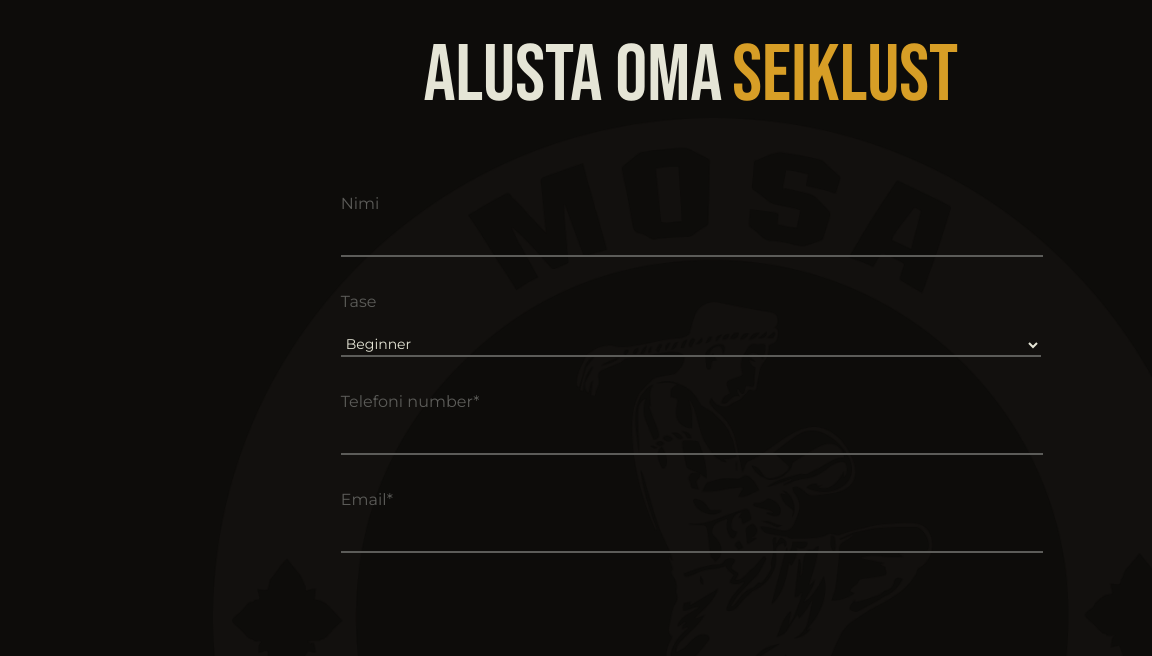
Test: TrainReg Component › should reset form and show success message on valid submission
Type "John Doe" into the field labelled "Nimi" at (692, 246), box left=341, top=235, right=1043, bottom=257
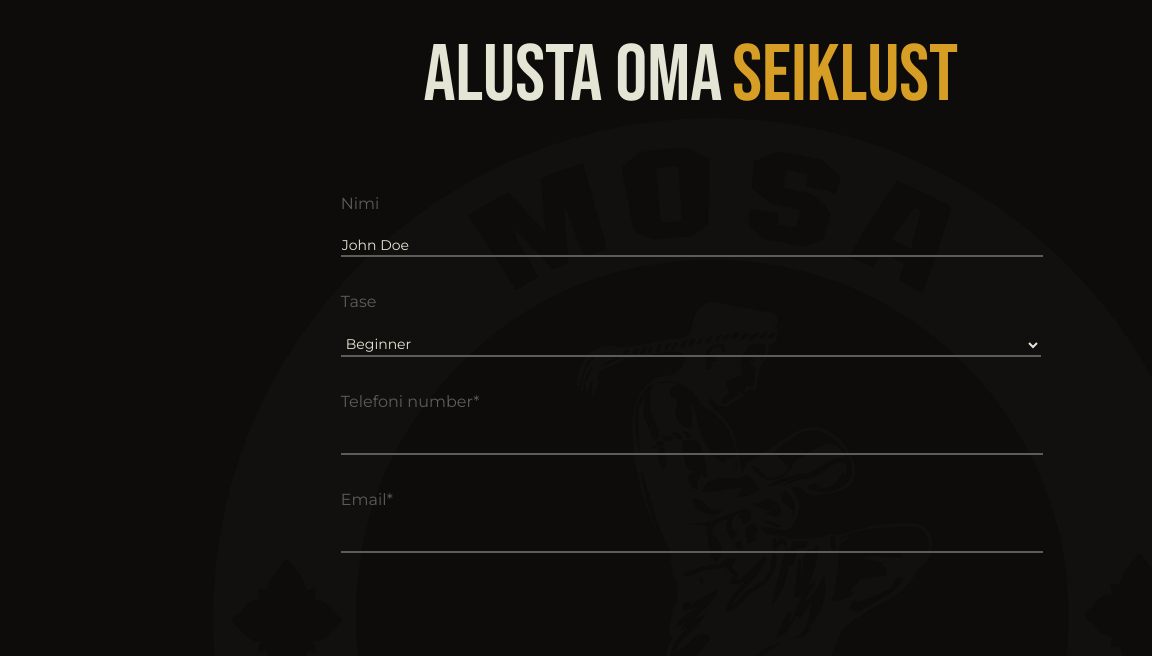
Type "john@example.com" into the field labelled "Email*" at (692, 542), box left=341, top=531, right=1043, bottom=553
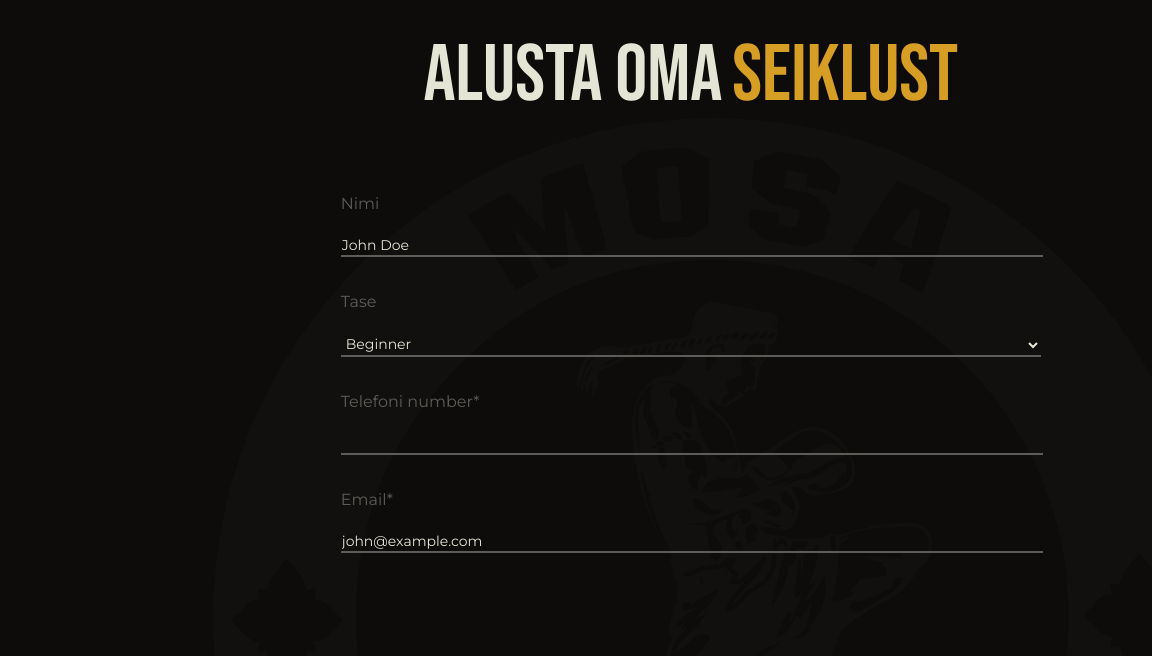
Type "+123456789" into the field labelled "Telefoni number*" at (692, 444), box left=341, top=433, right=1043, bottom=455
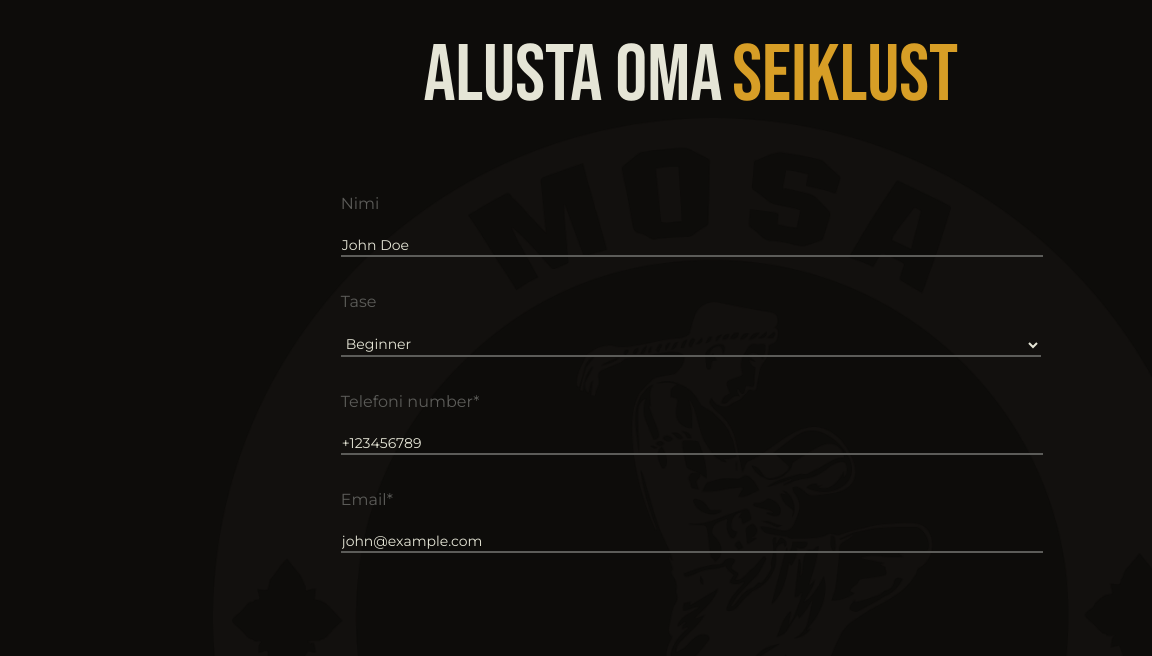
Select "Beginner" in the dropdown labelled "Tase" at (691, 345), box left=341, top=333, right=1041, bottom=357
(page scrolled)
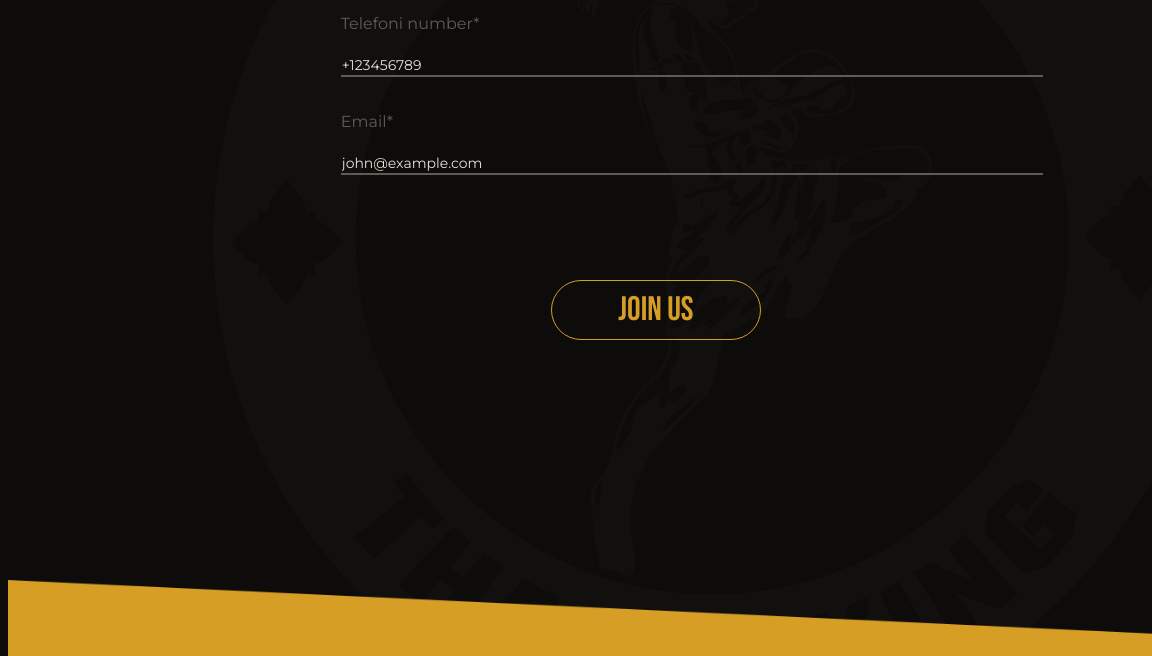
Submit the form from the button "Join us", box left=551, top=280, right=761, bottom=340
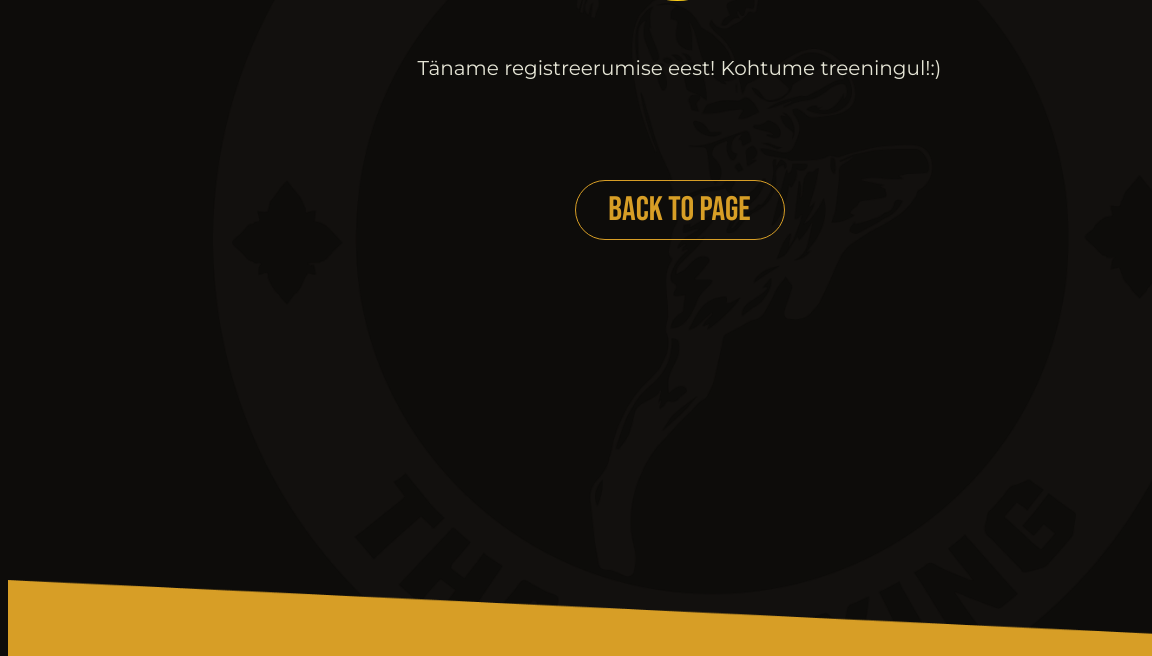
Now the text "Täname registreerumise eest! Kohtume treeningul!:)" is shown, box left=418, top=56, right=941, bottom=80
Now the button "Join us" is gone
